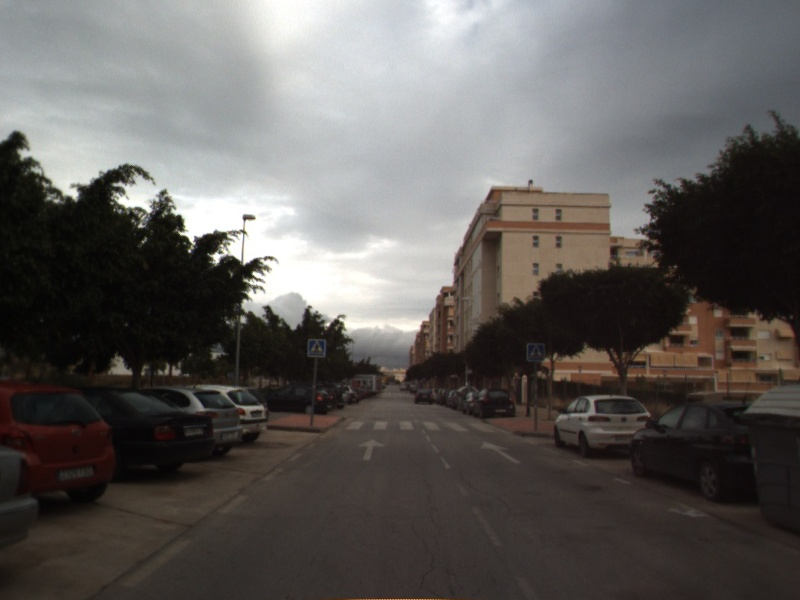STRAIGHT: (478, 440, 523, 465), (356, 438, 387, 462)
